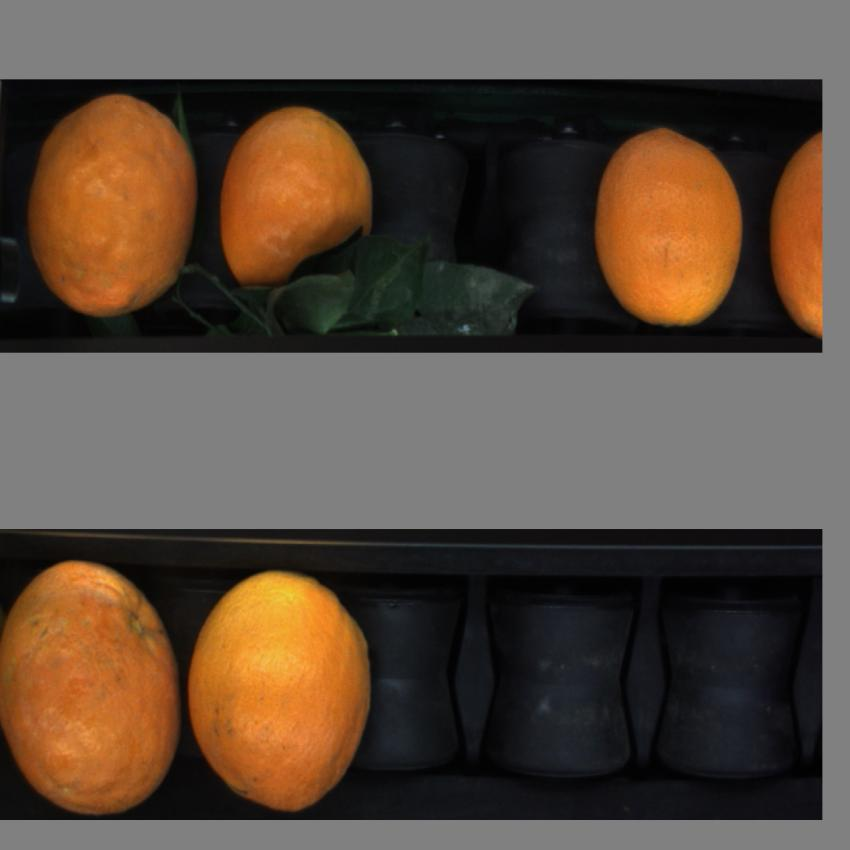Buen estado: (184, 564, 381, 812), (594, 118, 747, 329), (765, 128, 825, 332)
Mal estado: (2, 554, 182, 816), (25, 88, 202, 319), (220, 108, 374, 295)
